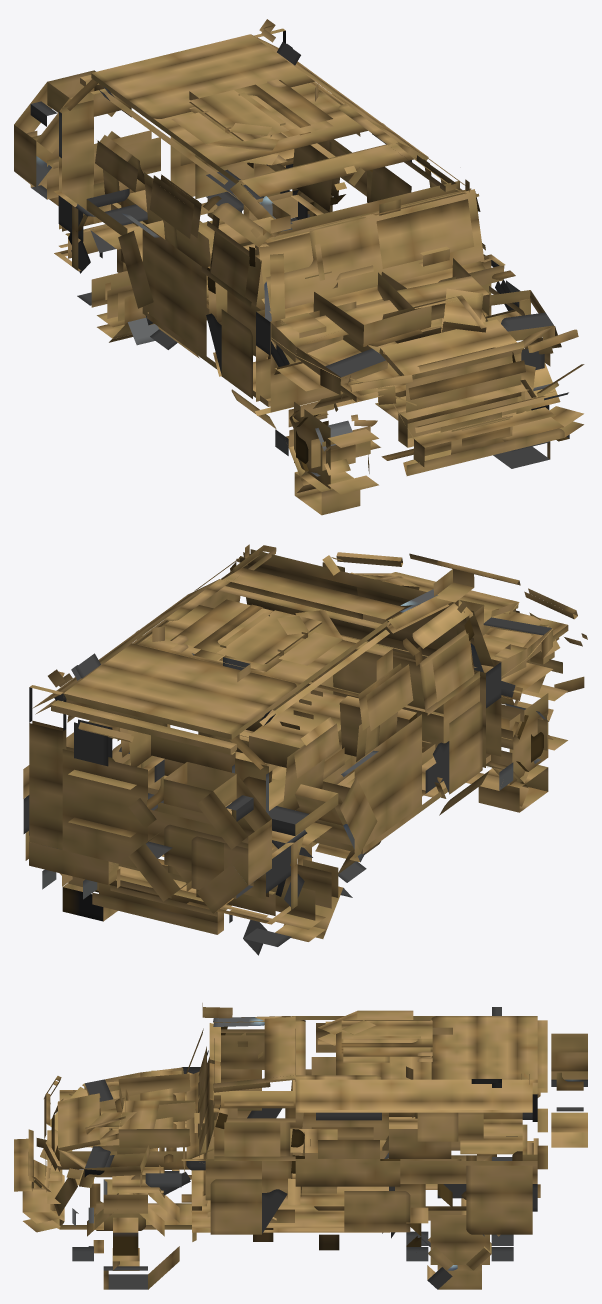
Rendered from tigrm.obj.
3 views of the same model, one above another, from view 1: azimuth 30°, elevation 25°; view 2: azimuth 150°, elevation 25°; view 3: azimuth 270°, elevation 25° (orthographic). The views are drawn at different scales.
Parts seen in each view (by area): view 1: body, w1, w3, w2; view 2: body, w1, w3, w4; view 3: body, w4, w2.
Boxes of the visible parts, <box> form: body: <box>14,19,584,475</box>; w1: <box>275,393,378,515</box>; w3: <box>71,223,158,345</box>; w2: <box>493,337,569,468</box>; body: <box>23,544,587,934</box>; w1: <box>466,675,567,812</box>; w3: <box>243,822,352,955</box>; w4: <box>42,869,117,921</box>; body: <box>14,1003,587,1250</box>; w4: <box>406,1184,513,1289</box>; w2: <box>72,1179,179,1289</box>.
Size of the model in its own units: 3.36 by 2.94 by 7.06.
